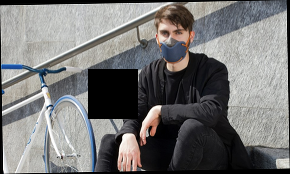with_mask: (157, 27, 190, 63)
